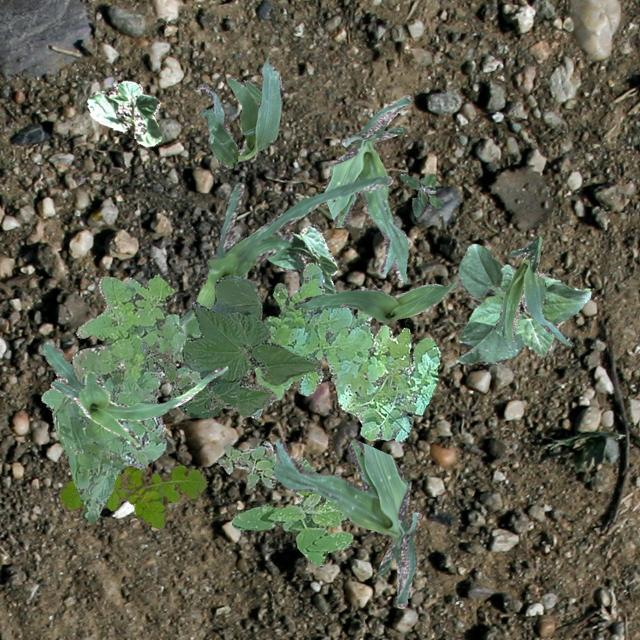crop: (178, 174, 392, 334), (272, 438, 420, 606), (178, 276, 320, 418), (43, 342, 227, 448), (454, 242, 590, 364), (324, 94, 409, 282), (196, 56, 282, 168), (492, 234, 570, 346), (292, 280, 454, 322), (266, 224, 336, 294), (86, 80, 160, 146)
weed: (176, 262, 440, 442), (40, 273, 200, 522), (230, 456, 352, 564), (58, 463, 206, 528), (138, 340, 190, 400), (217, 440, 274, 488), (398, 172, 441, 215)
